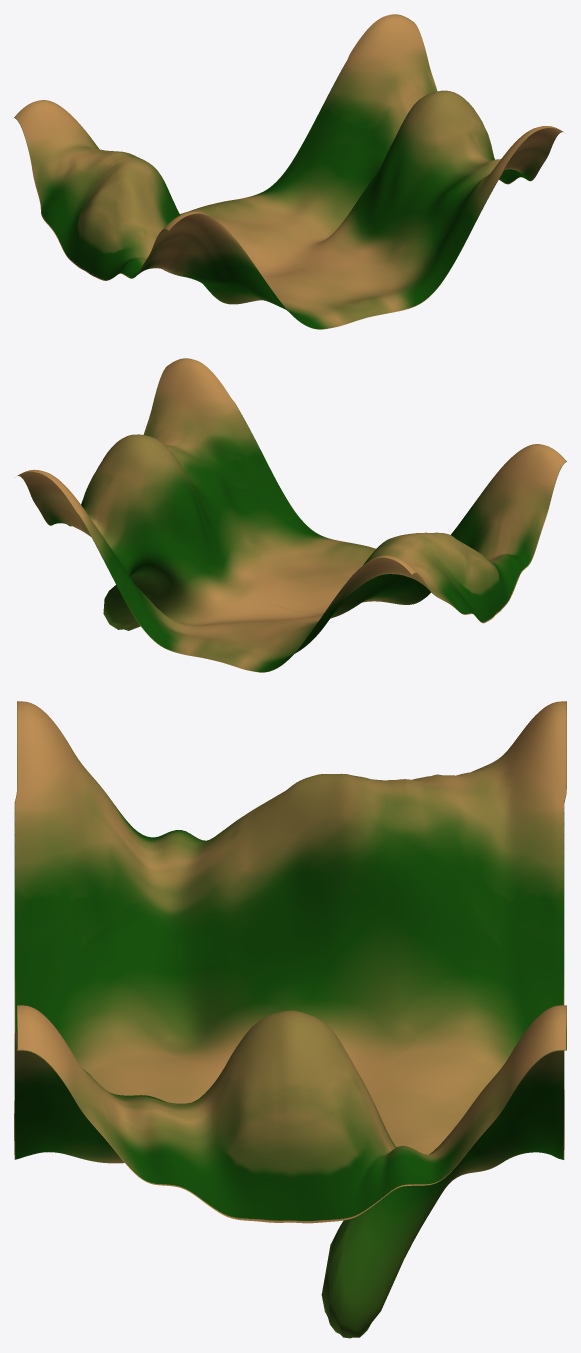
File: terreno.fbx
The picture shows the model from 3 angles, top to bottom: view 1: azimuth 30°, elevation 25°; view 2: azimuth 150°, elevation 25°; view 3: azimuth 270°, elevation 25°; orthographic projection. The views are drawn at different scales.
Parts seen in each view (by area): view 1: Plane; view 2: Plane; view 3: Plane.
Boxes of the visible parts, bbox=[...] form: Plane: bbox=[14, 14, 563, 329]; Plane: bbox=[17, 358, 566, 672]; Plane: bbox=[14, 701, 566, 1338].
Size of the model in its own units: 9292 by 4177 by 6068.
Materials: 1 (1 with a texture image).
